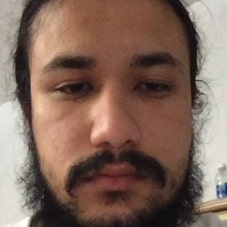drowsy: (39, 37, 188, 211)
